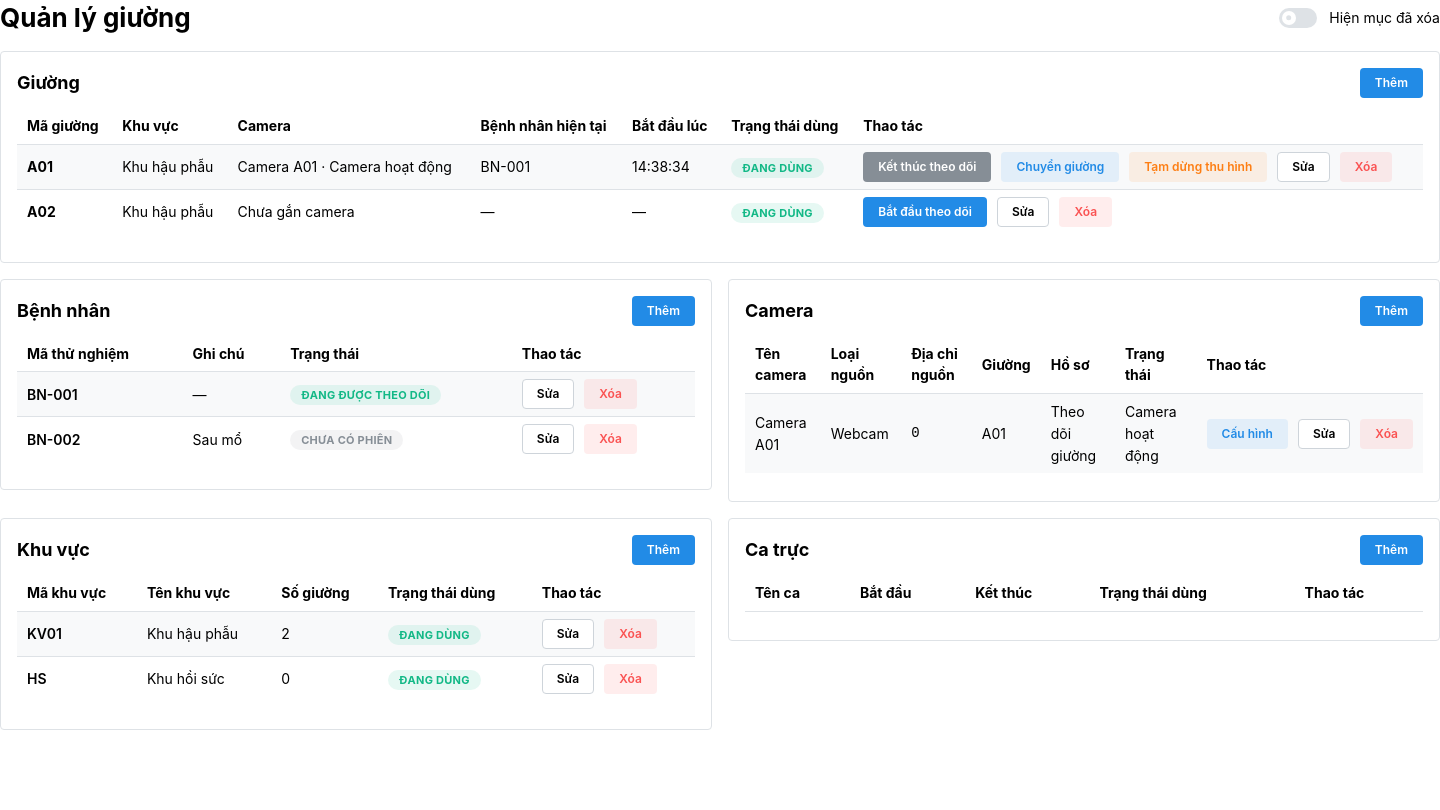
ManagementPage › delete conflict shows the API message
Click the button "Xóa" in the row of "A02": (1086, 212) 1060,197 -> 1112,227
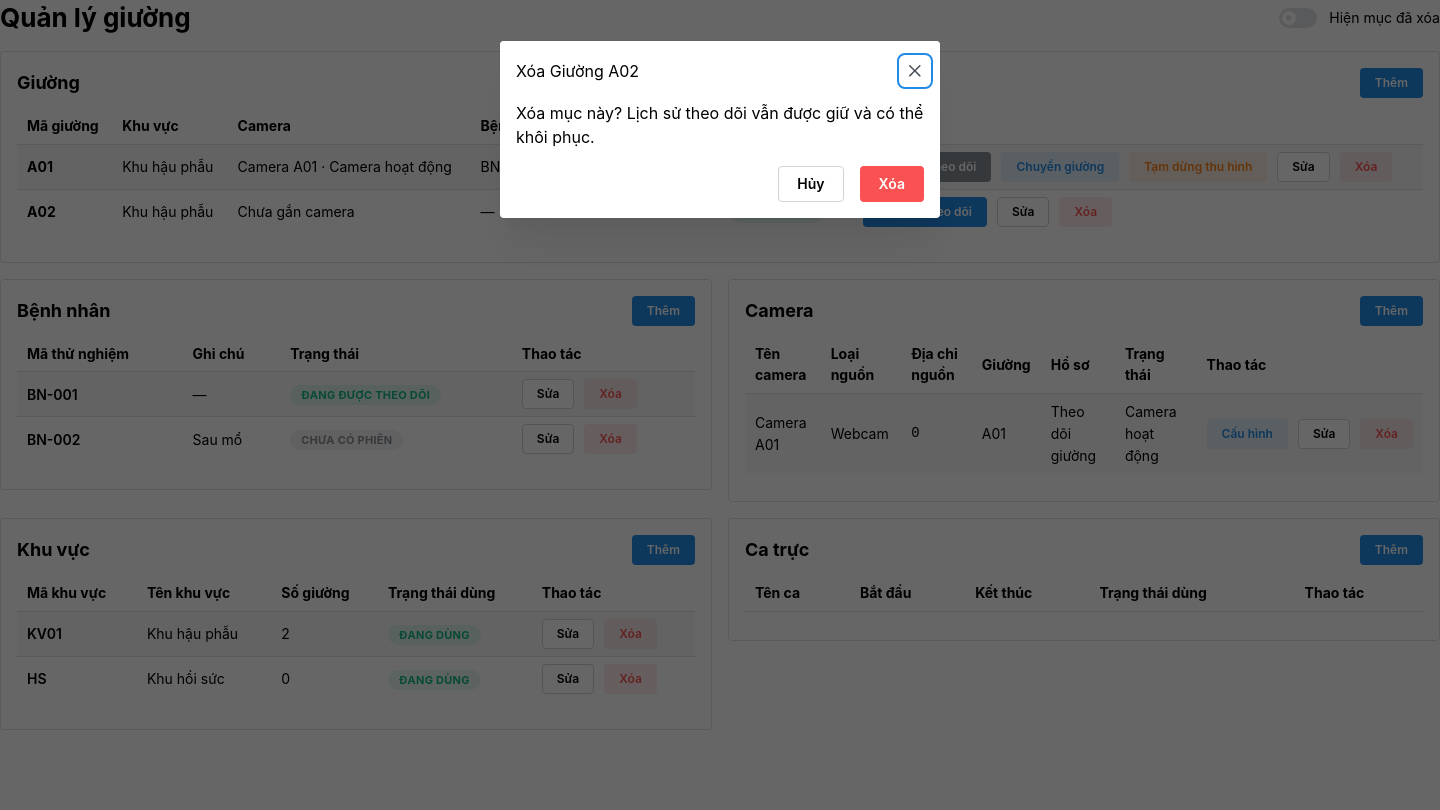
Click the button "Xóa": (892, 184) 860,166 -> 924,202
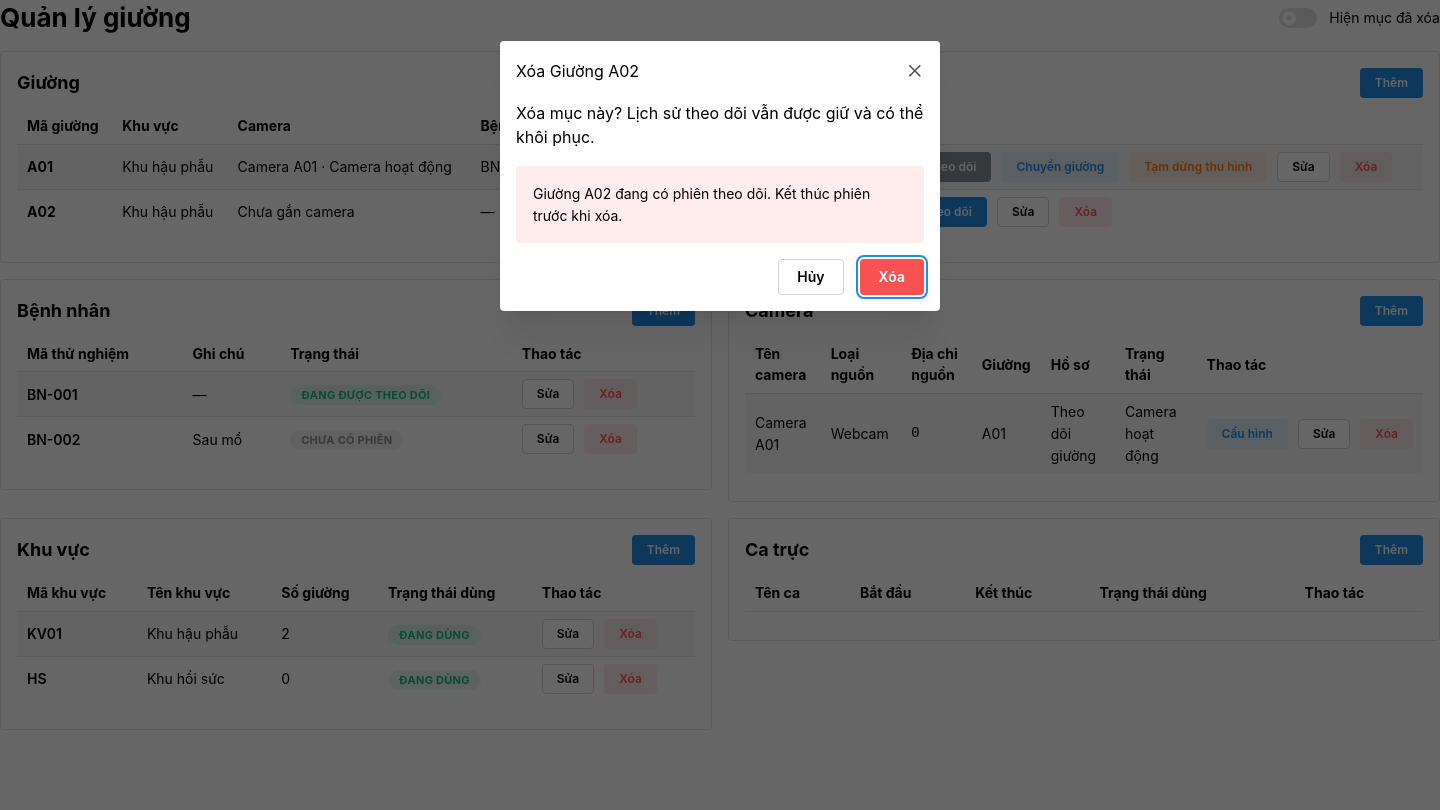
expect the text "Giường A02 đang có phiên theo dõi. Kết thúc phiên trước khi xóa." is shown: met, box 533,183 -> 907,226
